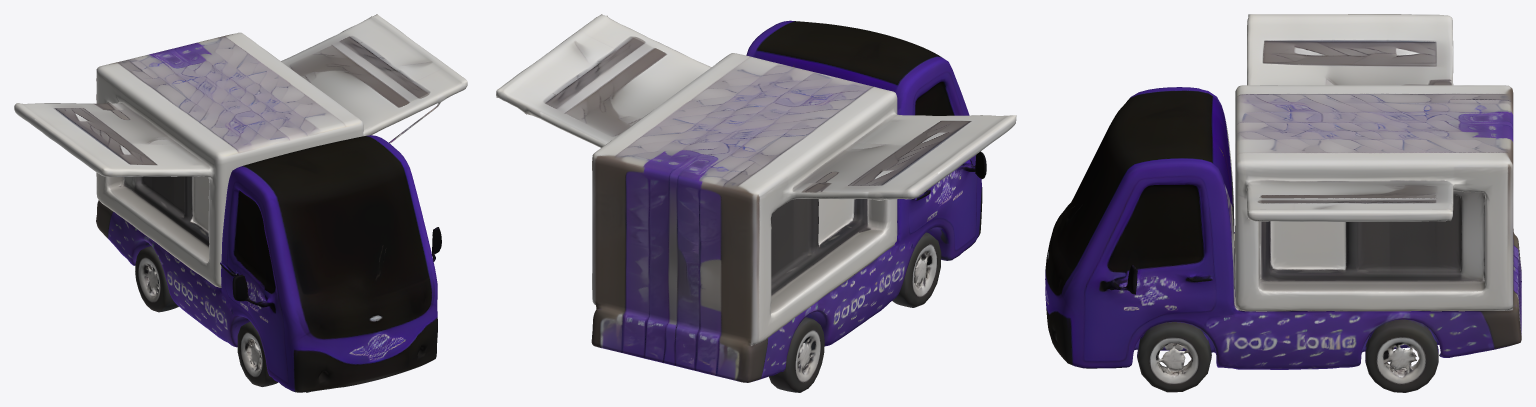
Rendered from base_basic_pbr.glb.
3 views of the same model, side by side, from view 1: azimuth 30°, elevation 25°; view 2: azimuth 150°, elevation 25°; view 3: azimuth 270°, elevation 25° (orthographic). The views are drawn at different scales.
Visible parts, largest first — view 1: model; view 2: model; view 3: model.
Boxes of the visible parts, x1,y1,x2,y2 form: model: [14, 14, 467, 392]; model: [496, 14, 1016, 392]; model: [1045, 14, 1521, 392].
Bounding box in the file's own units: 1.88 × 1.08 × 1.91.
Materials: 1 (1 with a texture image).
